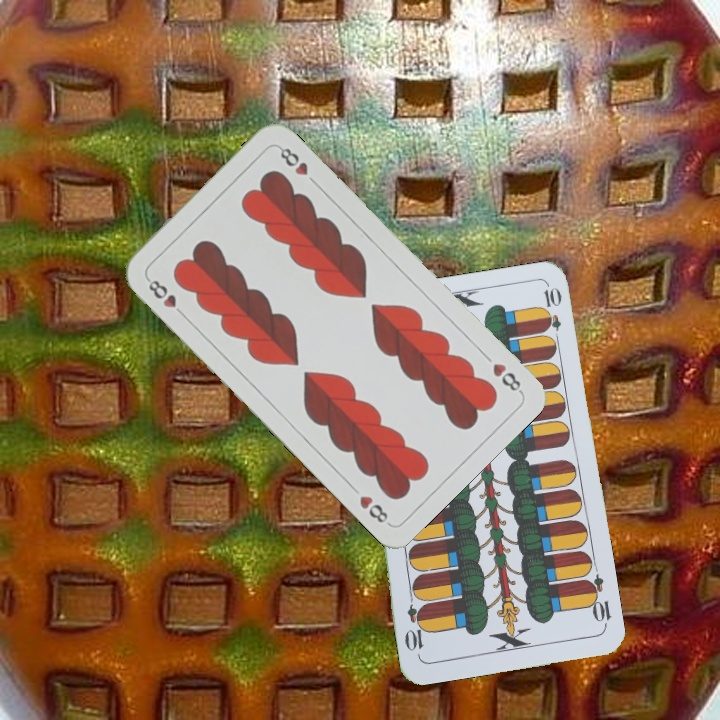E10: (581, 571, 614, 630)
H8: (142, 273, 189, 320), (488, 359, 525, 395)
